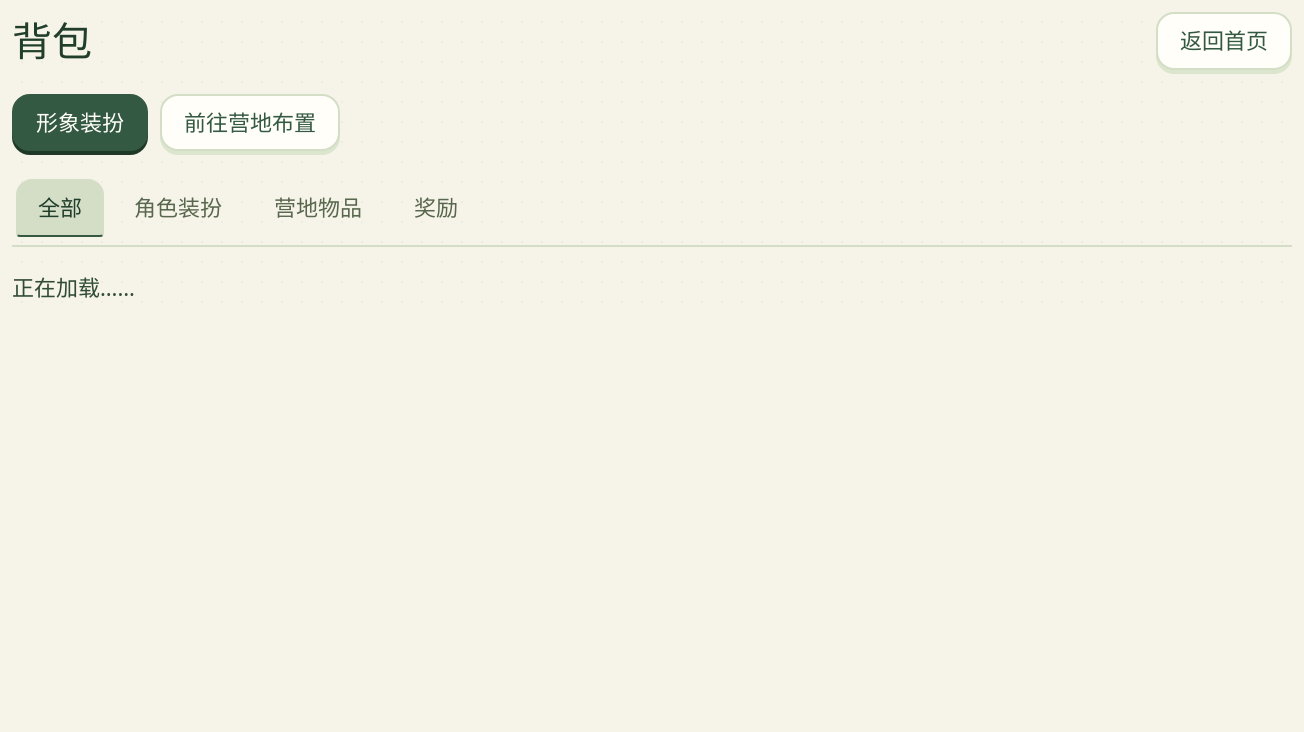
背包分类与奖励 › 迟到的旧分类响应不能覆盖当前营地分类
The image size is (1304, 732).
Click the tab "营地物品": (318, 208) top-left (252, 179), bottom-right (384, 237)
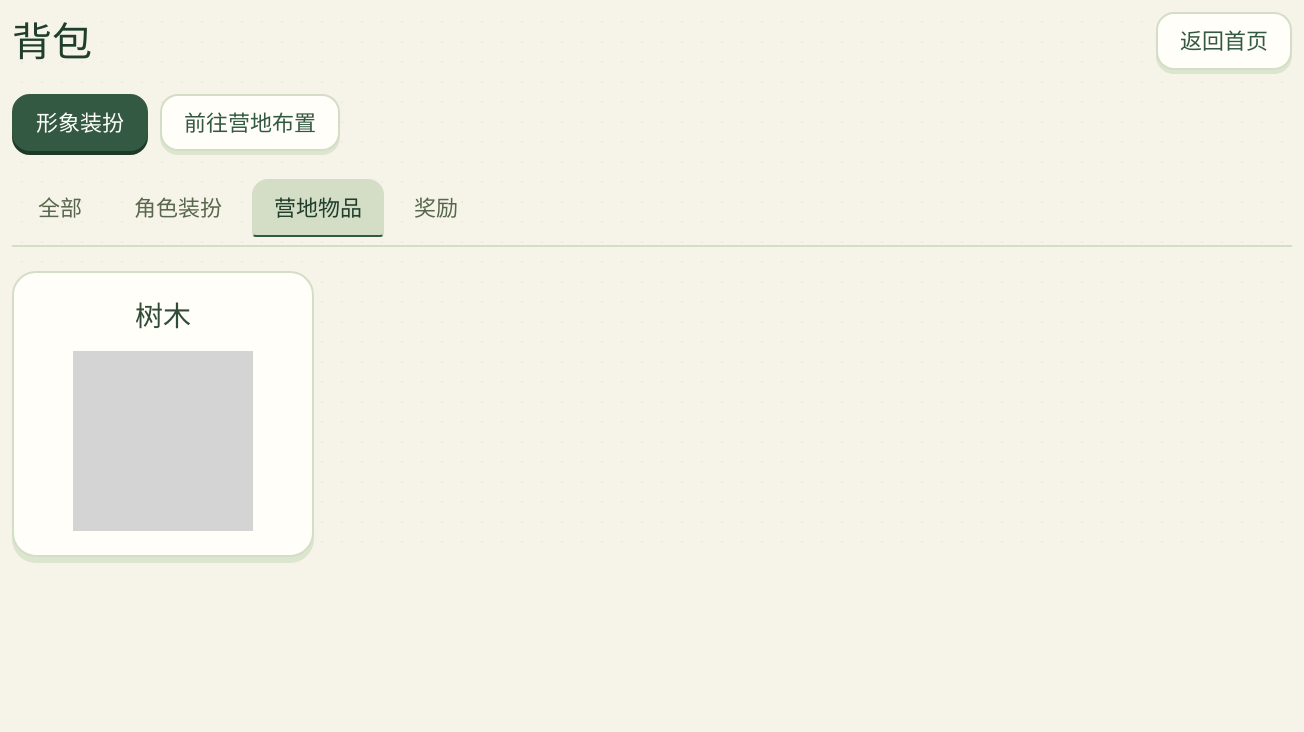
Check: the heading "树木" is shown, box top-left (135, 296), bottom-right (191, 334)
